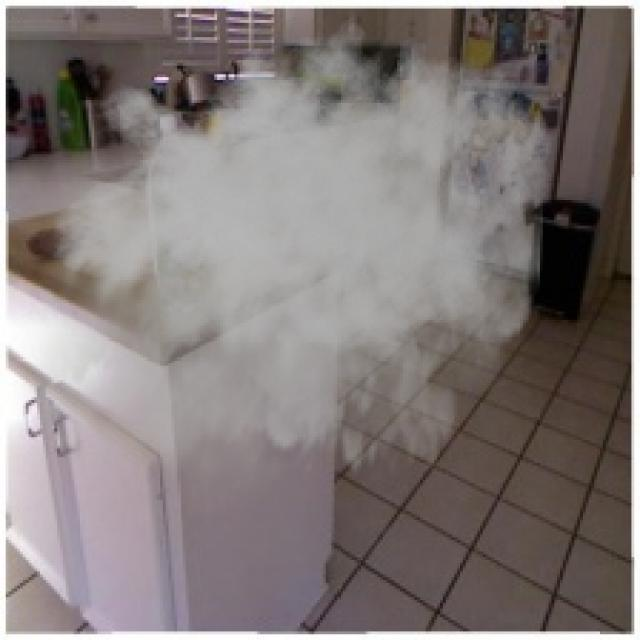Smoke: (2, 0, 555, 535)
